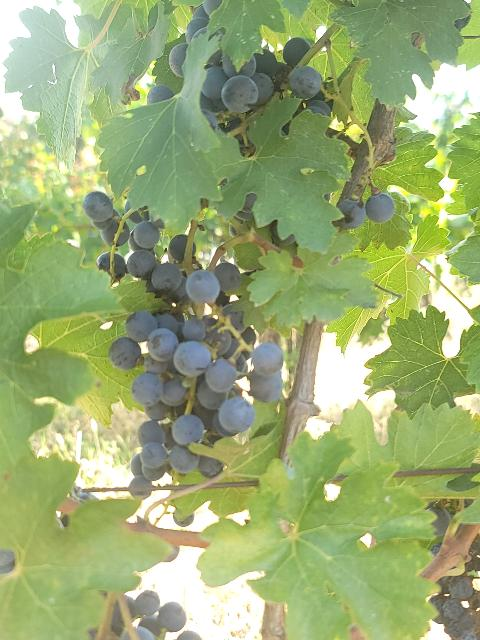grapes: (109, 264, 282, 496), (201, 49, 280, 116), (282, 38, 331, 116)
